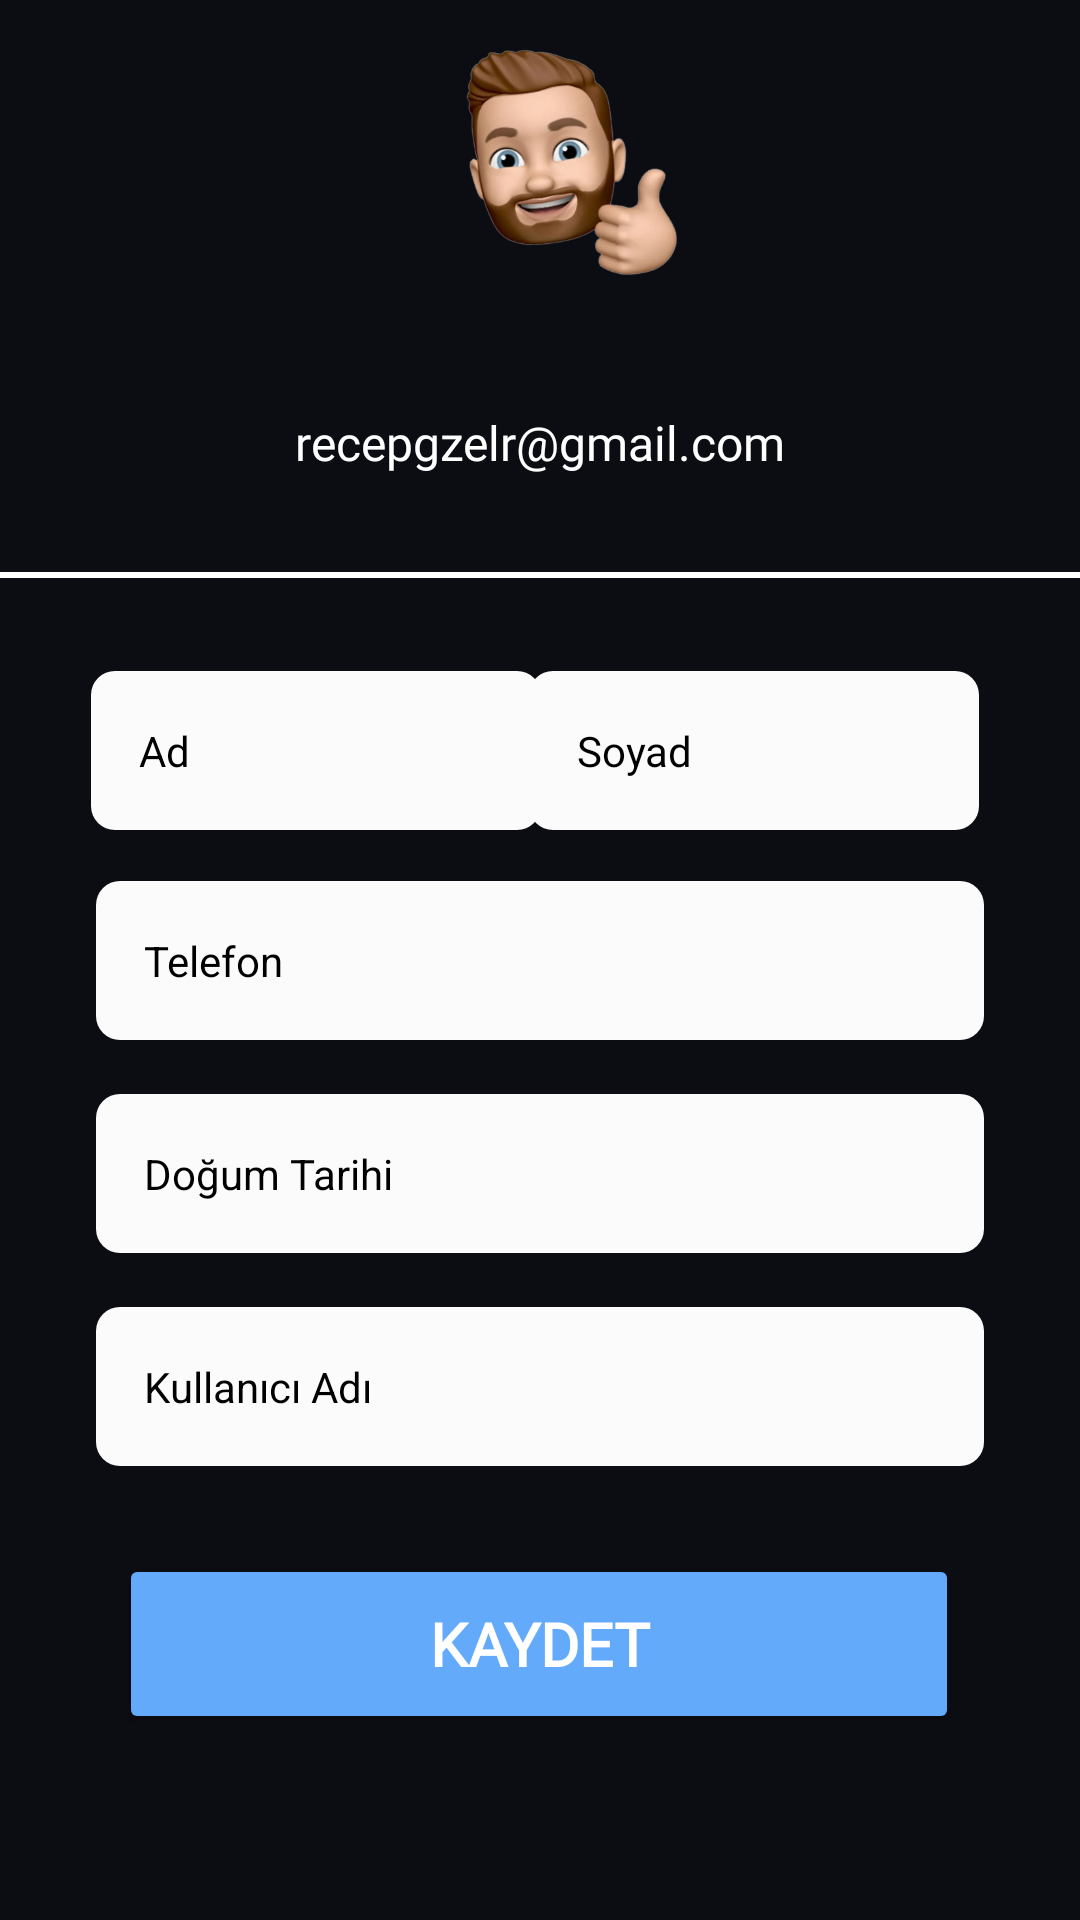

Where to tap for icons on this 1080×1920 app screen, as [x,y]:
memoji: [572,162]
